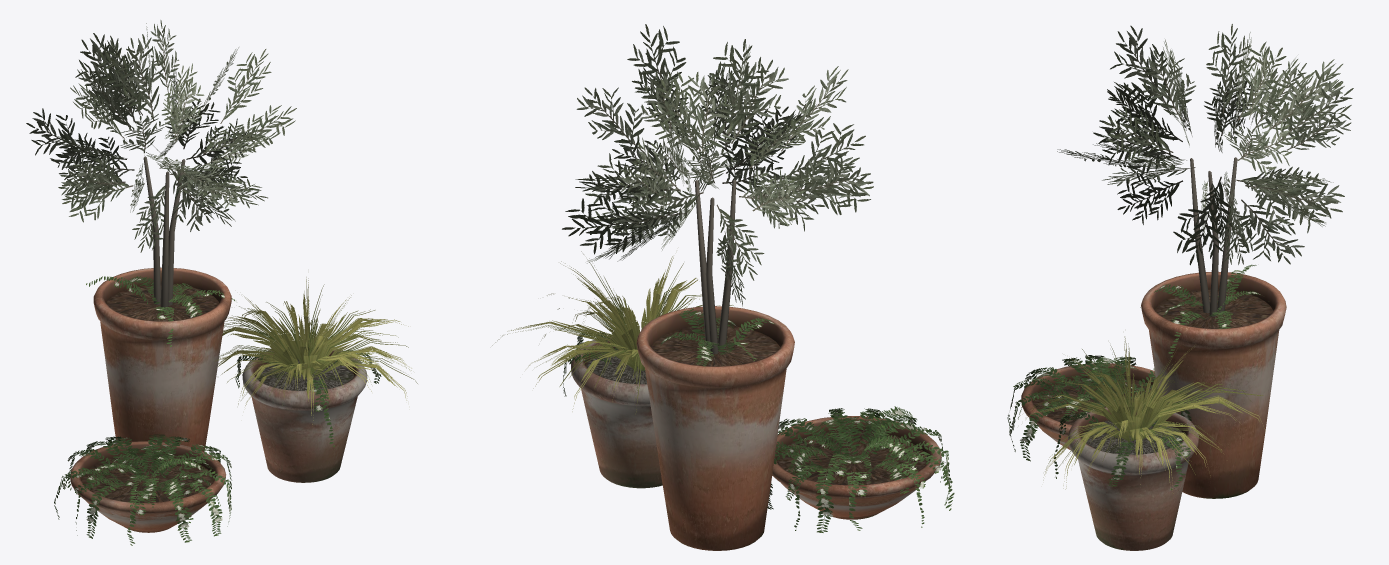
File: courtyard_pots_door.gltf
3 views of the same model, side by side, from view 1: azimuth 30°, elevation 25°; view 2: azimuth 150°, elevation 25°; view 3: azimuth 270°, elevation 25° (orthographic). The views are drawn at different scales.
Visible parts, largest first — view 1: CourtyardPotsDoor_PlantsNoCollide, CourtyardPotsDoor_Pot0, CourtyardPotsDoor_Pot1, CourtyardPotsDoor_Pot2, CourtyardPotsDoor_StemsNoCollide; view 2: CourtyardPotsDoor_PlantsNoCollide, CourtyardPotsDoor_Pot0, CourtyardPotsDoor_Pot2, CourtyardPotsDoor_Pot1, CourtyardPotsDoor_StemsNoCollide; view 3: CourtyardPotsDoor_PlantsNoCollide, CourtyardPotsDoor_Pot0, CourtyardPotsDoor_Pot1, CourtyardPotsDoor_Pot2, CourtyardPotsDoor_StemsNoCollide.
Part boxes in pixels (x1,y1,x2,y2): CourtyardPotsDoor_PlantsNoCollide: (26, 20, 417, 545); CourtyardPotsDoor_Pot0: (93, 267, 231, 451); CourtyardPotsDoor_Pot1: (242, 350, 367, 482); CourtyardPotsDoor_Pot2: (70, 441, 226, 532); CourtyardPotsDoor_StemsNoCollide: (143, 156, 185, 309); CourtyardPotsDoor_PlantsNoCollide: (492, 24, 954, 532); CourtyardPotsDoor_Pot0: (636, 306, 794, 550); CourtyardPotsDoor_Pot2: (772, 416, 941, 519); CourtyardPotsDoor_Pot1: (571, 335, 662, 488); CourtyardPotsDoor_StemsNoCollide: (695, 179, 736, 354); CourtyardPotsDoor_PlantsNoCollide: (1007, 24, 1353, 493); CourtyardPotsDoor_Pot0: (1141, 271, 1286, 498); CourtyardPotsDoor_Pot1: (1068, 407, 1198, 550); CourtyardPotsDoor_Pot2: (1021, 363, 1157, 449); CourtyardPotsDoor_StemsNoCollide: (1190, 157, 1237, 316).
Size of the model in its own units: 1.73 by 1.89 by 1.46.
Materials: 3 (2 with a texture image).
